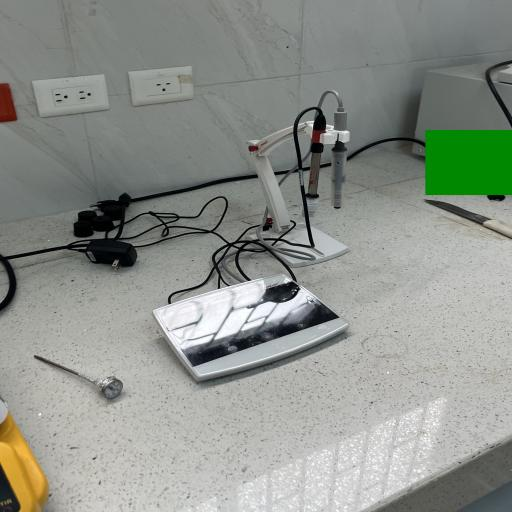Phmetro_Ohaus: (146, 266, 365, 385)
